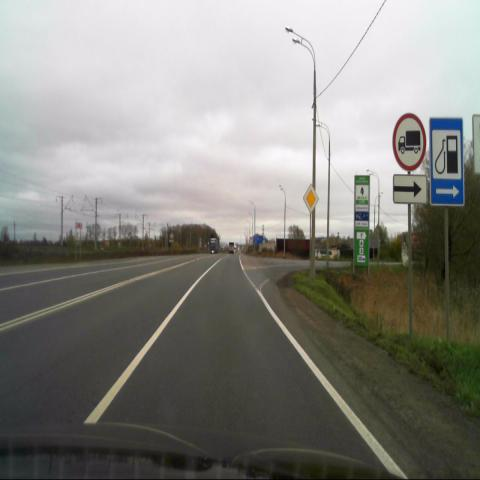8_3_1: (393, 174, 426, 204)
